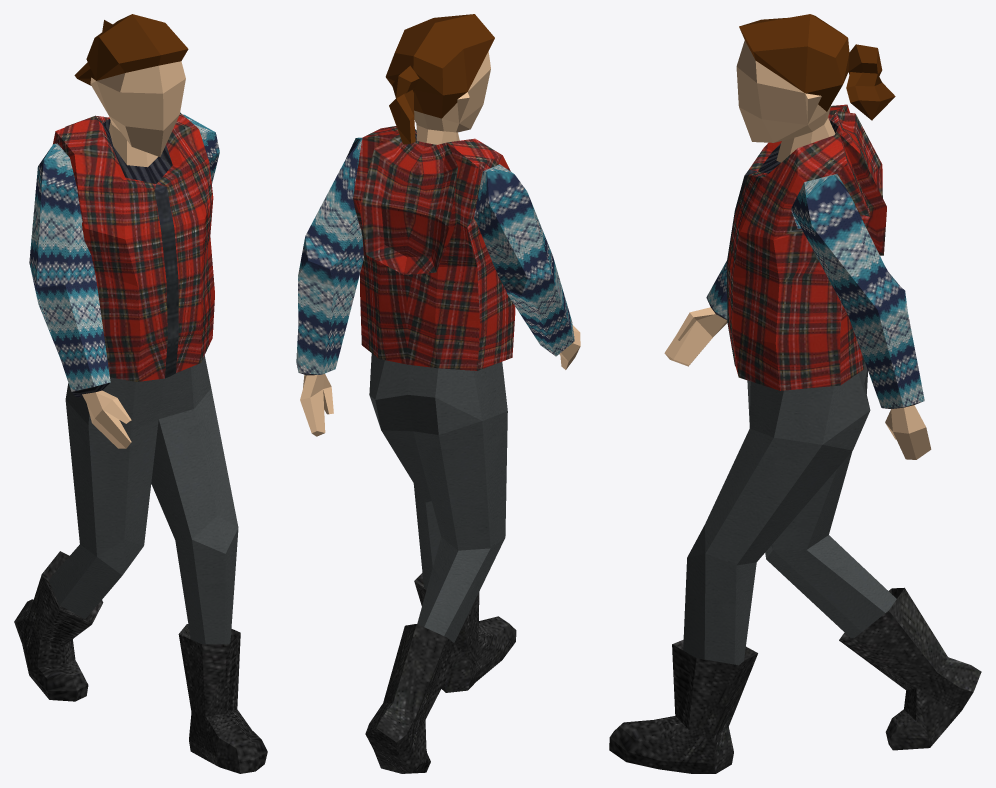
The model's file is AutumnGirl.009.glb.
3 views of the same model, side by side, from view 1: azimuth 30°, elevation 25°; view 2: azimuth 150°, elevation 25°; view 3: azimuth 270°, elevation 25° (orthographic). The views are drawn at different scales.
Parts seen in each view (by area): view 1: AutumnGirl.009; view 2: AutumnGirl.009; view 3: AutumnGirl.009.
Part boxes in pixels (x1,y1,x2,y2): AutumnGirl.009: (14, 14, 267, 773); AutumnGirl.009: (296, 14, 580, 773); AutumnGirl.009: (609, 14, 981, 773).
Bounding box in the file's own units: 0.5211 × 1.7 × 0.7743.
1 material, 1 textured.
